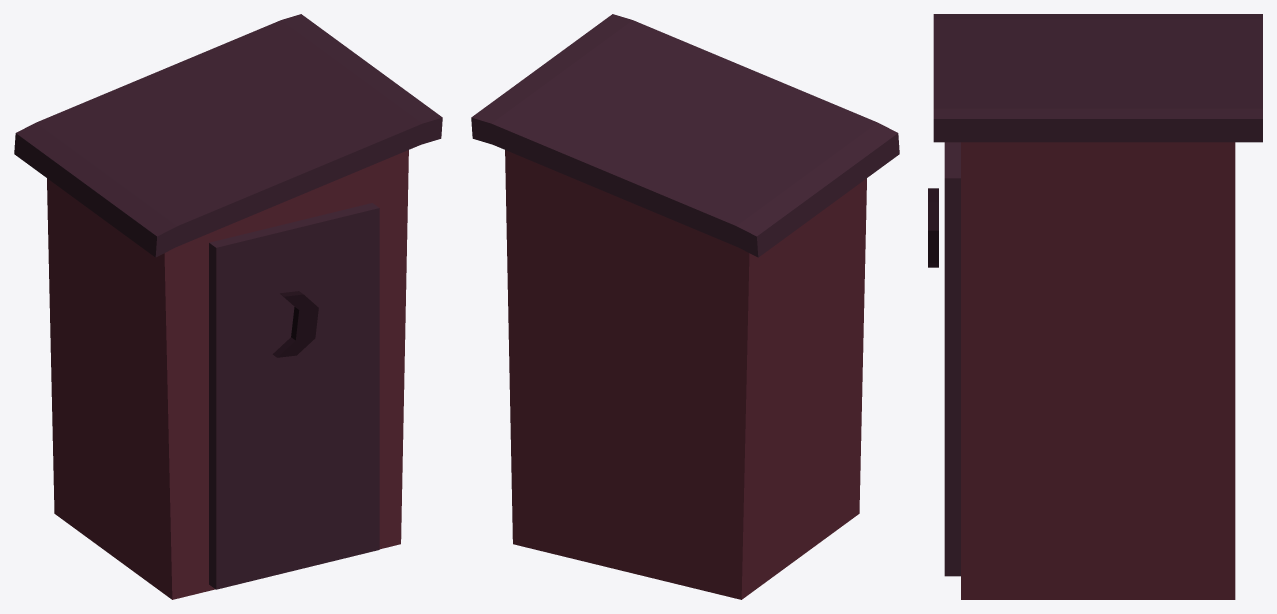
The model's file is outhouse_2.obj.
The picture shows the model from 3 angles, left to right: view 1: azimuth 30°, elevation 25°; view 2: azimuth 150°, elevation 25°; view 3: azimuth 270°, elevation 25°; orthographic projection. The views are drawn at different scales.
Visible parts, largest first — view 1: building, back door, decoration; view 2: building; view 3: building, back door, decoration.
Part boxes in pixels (x1,y1,x2,y2): building: (14,14,442,599); back door: (209,203,379,589); decoration: (272,291,318,357); building: (471,14,899,599); building: (933,14,1262,599); back door: (944,142,960,576); decoration: (928,188,938,267).
Size of the model in its own units: 0.4394 by 0.6258 by 0.3813.
3 materials, 3 textured.
